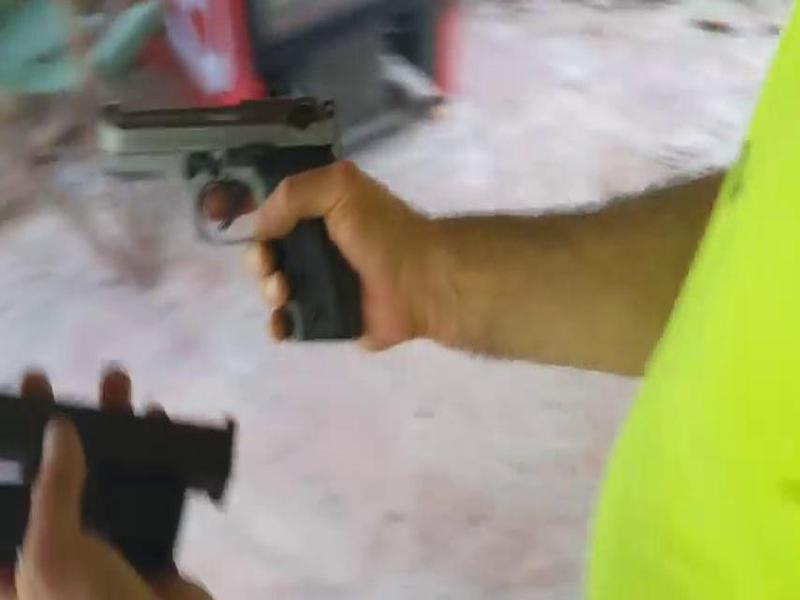Pistola: (90, 96, 373, 346)
